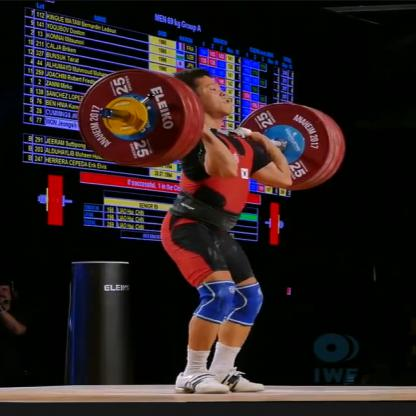Barbell: (75, 64, 208, 174)
